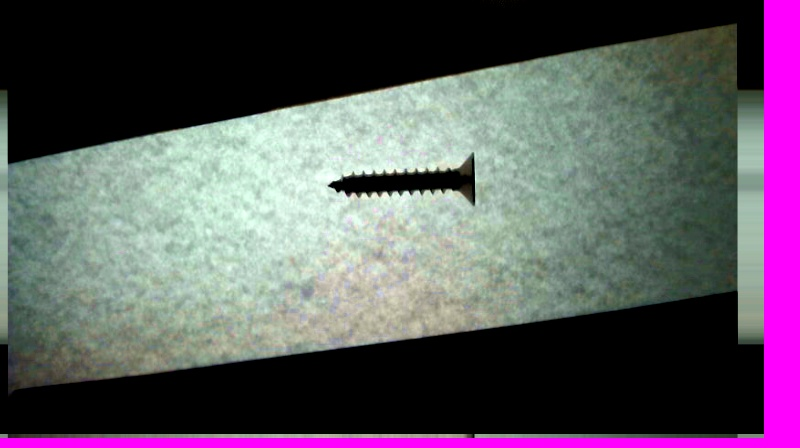S001: (325, 149, 477, 208)
